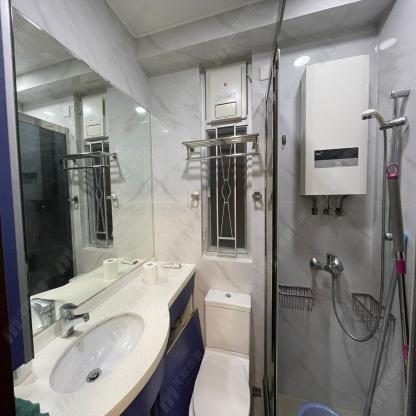Faucet: (55, 298, 91, 340)
Thermo Ventilator: (206, 60, 247, 124)
Toilet: (189, 289, 252, 416)
Toilet Sink: (23, 297, 169, 416)
Water Heater: (299, 53, 368, 195)
